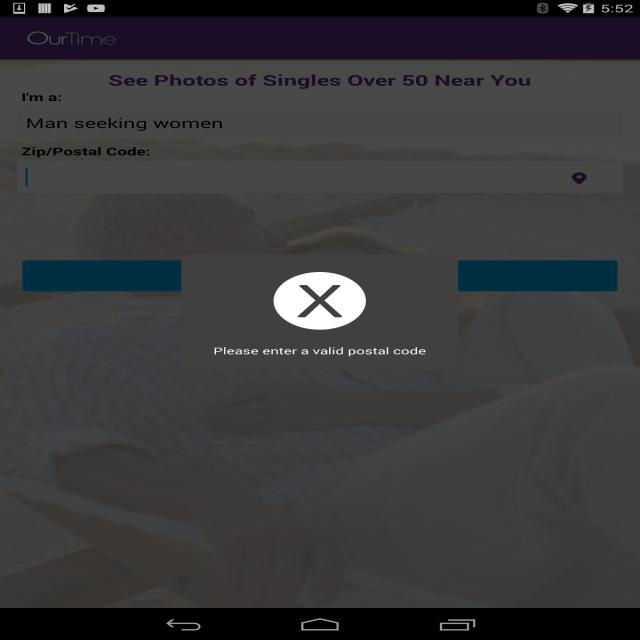button: (566, 163, 594, 193)
field: (24, 159, 623, 195), (17, 109, 625, 138)
heading: (111, 71, 536, 94)
image: (274, 273, 369, 331), (24, 29, 123, 51)
label: (20, 145, 155, 157)
text: (21, 110, 231, 136), (211, 345, 429, 360), (15, 94, 70, 104)
